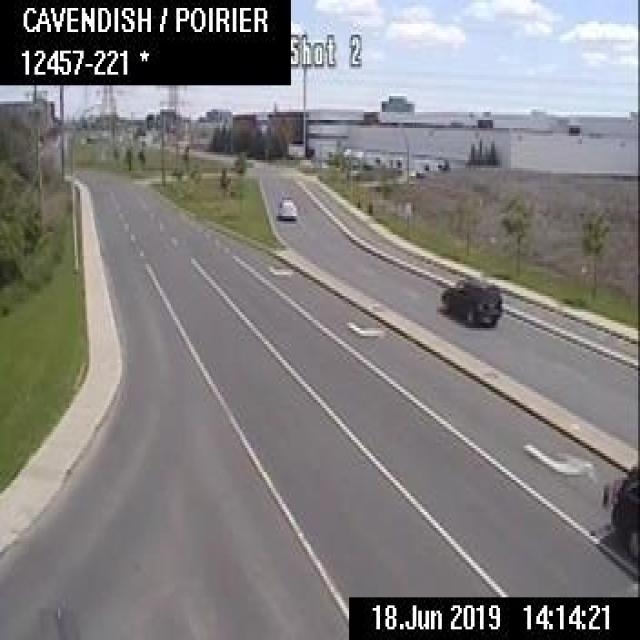vehicle: (604, 462, 638, 558), (442, 274, 498, 322), (276, 194, 295, 219)
